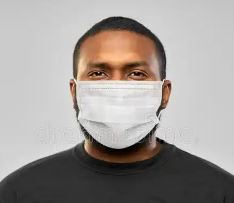with_facemask: (73, 78, 162, 150)
